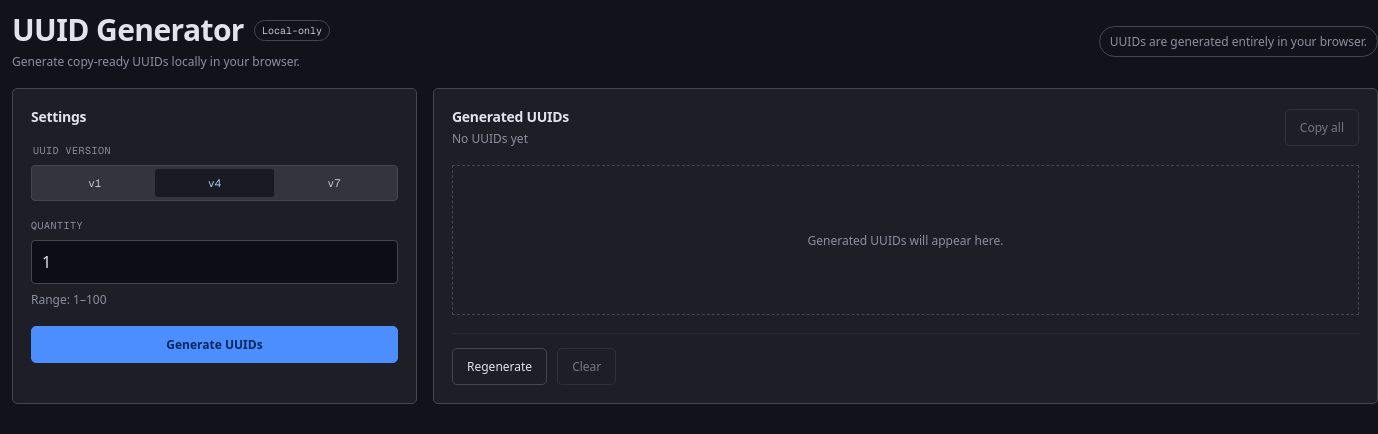
Test: UUID Generator - Level 3 advanced/risk-driven › shows an actionable error when secure browser cryptography is unavailable (browser capability risk)
The image size is (1378, 434).
What coordinates should you click on to do the following:
click the button "Generate UUIDs"
I would click on:
 (214, 344)
Its box is [31,326,398,363].
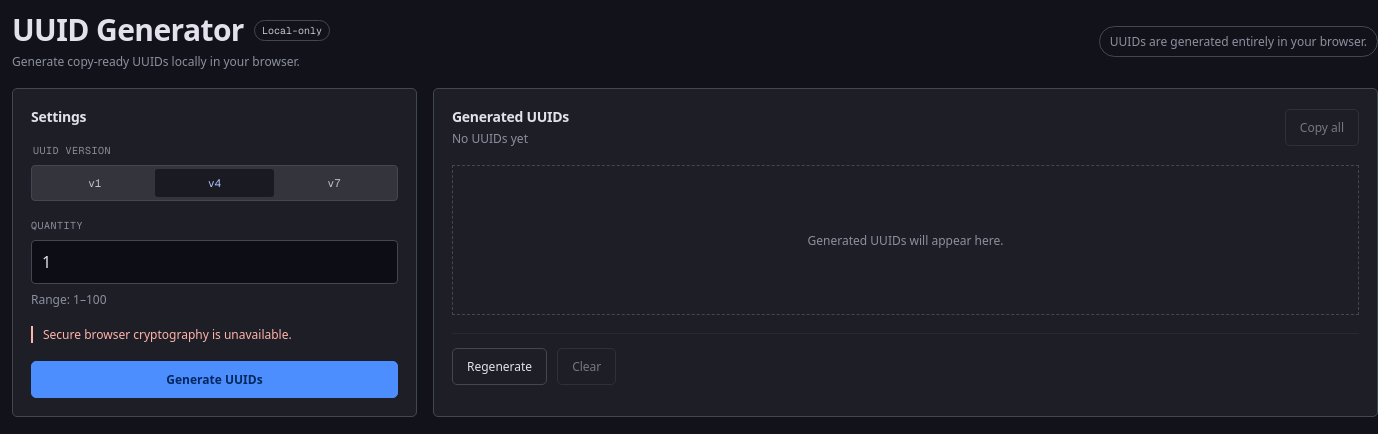
Expected: the message reads "Secure browser cryptography is unavailable.", [43,326,292,343]
